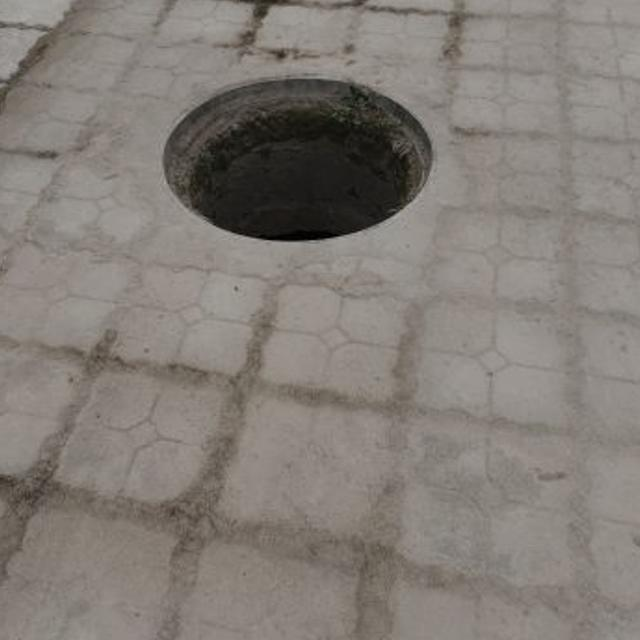lose: (157, 69, 449, 247)
